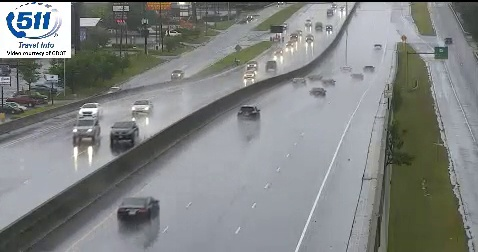car: (117, 197, 159, 223), (237, 105, 260, 121), (309, 87, 326, 98)
